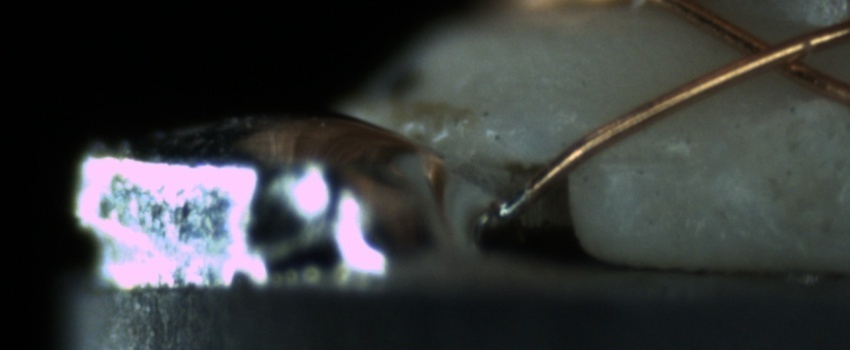CL: (715, 22, 832, 87)
DL: (598, 136, 725, 191)
